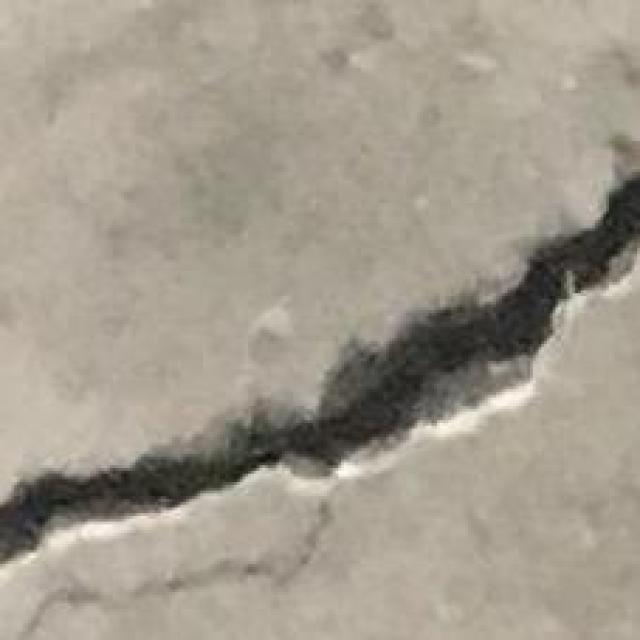diagonal crack: (0, 173, 639, 564)
